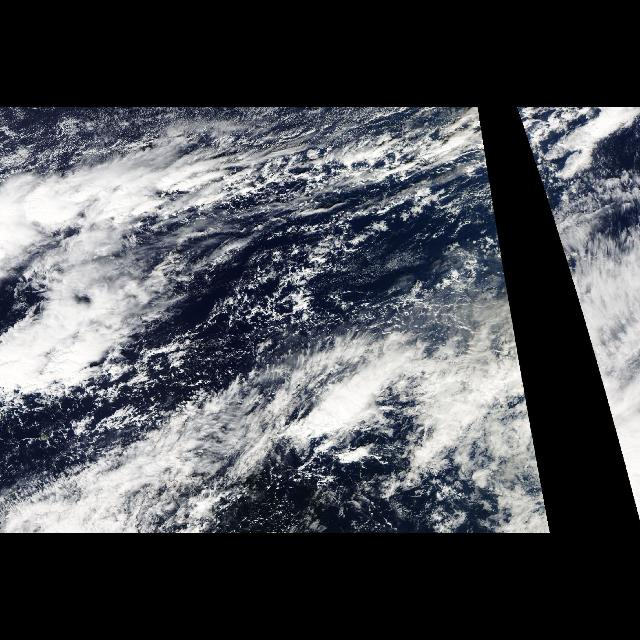Fish: (6, 317, 420, 533), (524, 133, 640, 261)
Gravel: (117, 200, 471, 360)
Sugar: (0, 107, 488, 187)
